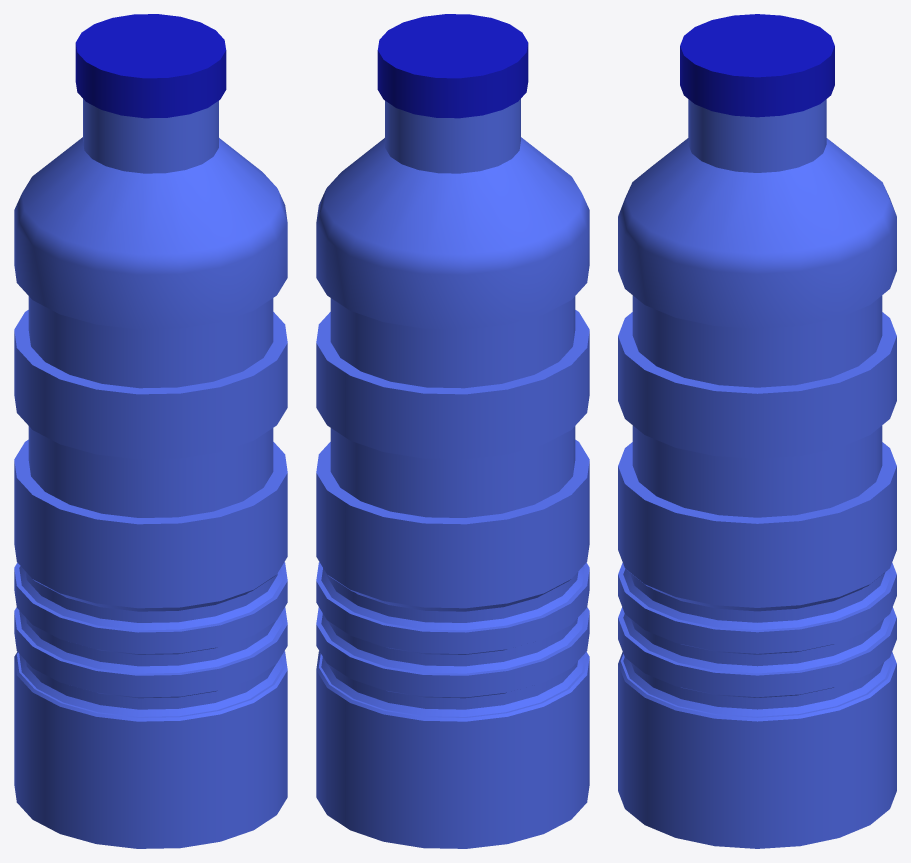
The model's file is bottle water.fbx.
3 renders of one model, left to right at view 1: azimuth 30°, elevation 25°; view 2: azimuth 150°, elevation 25°; view 3: azimuth 270°, elevation 25°, orthographic.
Parts seen in each view (by area): view 1: pCylinder53; view 2: pCylinder53; view 3: pCylinder53.
Boxes of the visible parts, x1,y1,x2,y2 form: pCylinder53: [14, 14, 287, 848]; pCylinder53: [316, 14, 589, 848]; pCylinder53: [618, 14, 896, 848].
Size of the model in its own units: 1.28 by 3.84 by 1.3.
